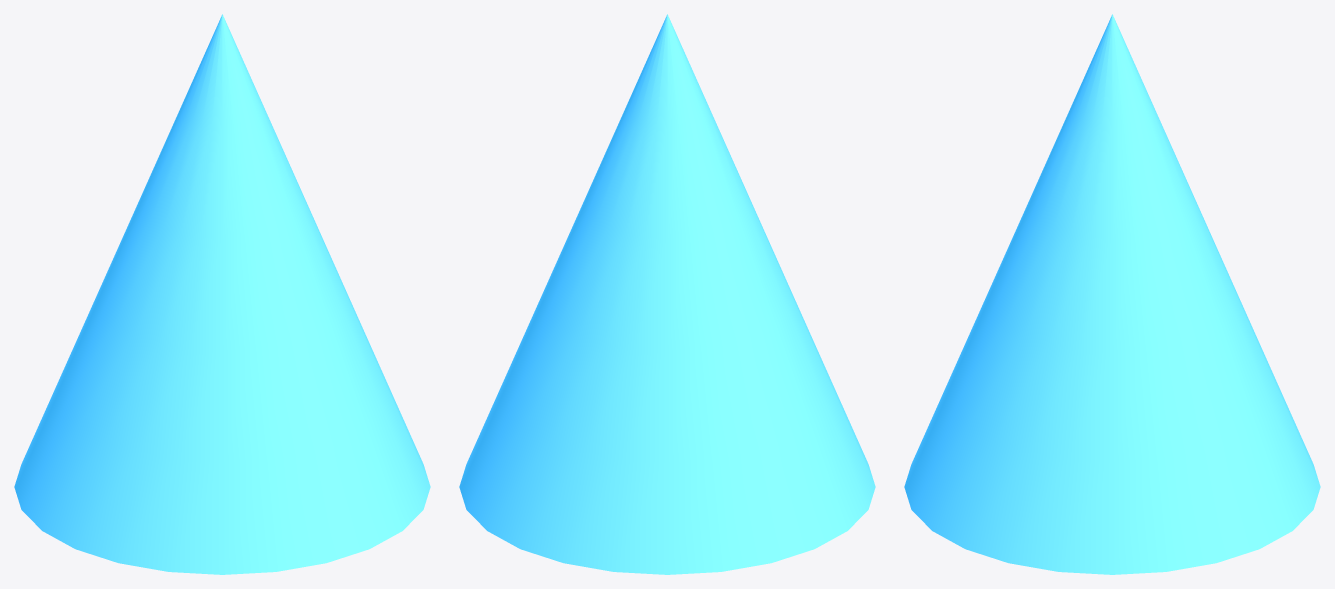
The picture shows the model from 3 angles, left to right: view 1: azimuth 30°, elevation 25°; view 2: azimuth 150°, elevation 25°; view 3: azimuth 270°, elevation 25°; orthographic projection.
Parts seen in each view (by area): view 1: Cone001; view 2: Cone001; view 3: Cone001.
Part boxes in pixels (<box>): Cone001: <box>14,14,430,574</box>; Cone001: <box>459,14,875,574</box>; Cone001: <box>904,14,1320,574</box>.
Bounding box in the file's own units: 108 × 135 × 108.
